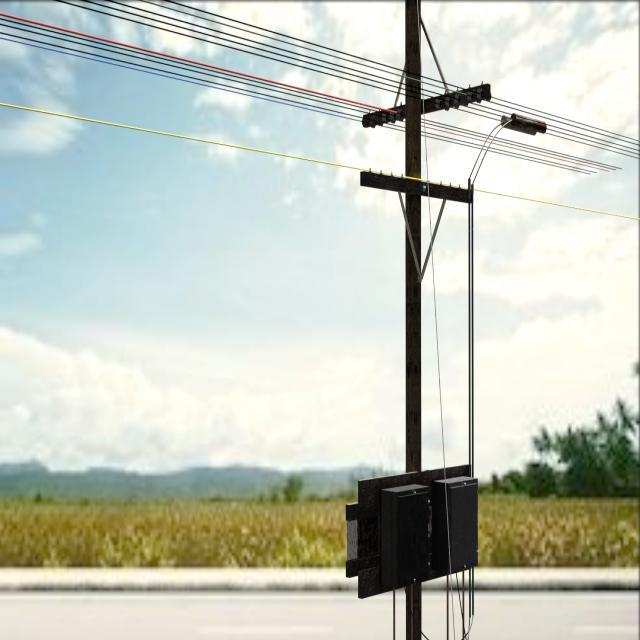crossarm: (358, 463, 470, 598), (362, 84, 492, 129), (360, 170, 475, 204)
pole: (405, 0, 421, 640)
transformer: (382, 484, 427, 585), (434, 474, 479, 573)
wire: (0, 11, 623, 172), (0, 17, 617, 171), (53, 0, 640, 161), (0, 22, 610, 173), (77, 0, 640, 157), (0, 31, 597, 174), (0, 36, 591, 174), (105, 0, 640, 152), (0, 102, 640, 223), (139, 0, 640, 147), (159, 0, 640, 143), (420, 59, 457, 638)
